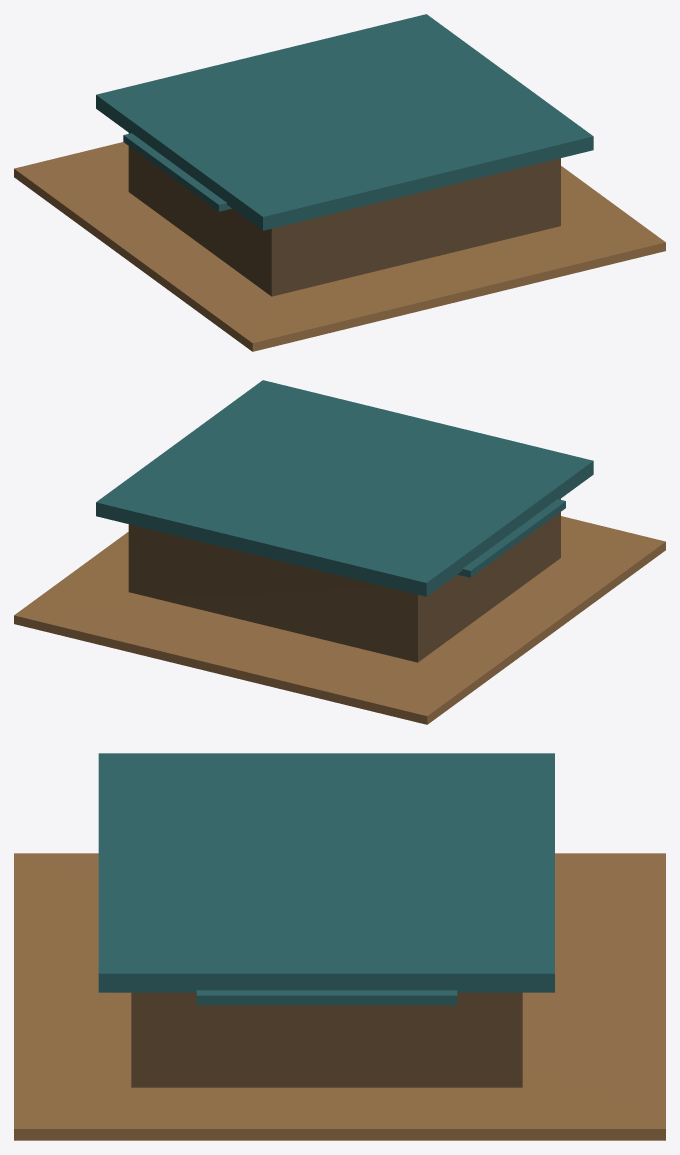
File: solar-array.source.glb
The picture shows the model from 3 angles, top to bottom: view 1: azimuth 30°, elevation 25°; view 2: azimuth 150°, elevation 25°; view 3: azimuth 270°, elevation 25°; orthographic projection. The views are drawn at different scales.
Parts seen in each view (by area): view 1: solar-array-roof-mesh, solar-array-base-mesh, solar-array-body-mesh, solar-array-panel-1.5-mesh; view 2: solar-array-roof-mesh, solar-array-base-mesh, solar-array-body-mesh, solar-array-panel-1.5-mesh; view 3: solar-array-roof-mesh, solar-array-base-mesh, solar-array-body-mesh, solar-array-panel1.5-mesh.
Part boxes in pixels (left/top/right/bottom): solar-array-roof-mesh: left=96, top=14, right=593, bottom=230; solar-array-base-mesh: left=14, top=142, right=665, bottom=351; solar-array-body-mesh: left=128, top=133, right=560, bottom=296; solar-array-panel-1.5-mesh: left=123, top=133, right=231, bottom=211; solar-array-roof-mesh: left=96, top=380, right=593, bottom=596; solar-array-base-mesh: left=14, top=516, right=665, bottom=724; solar-array-body-mesh: left=128, top=499, right=560, bottom=662; solar-array-panel-1.5-mesh: left=457, top=499, right=565, bottom=577; solar-array-roof-mesh: left=98, top=753, right=554, bottom=992; solar-array-base-mesh: left=14, top=853, right=665, bottom=1140; solar-array-body-mesh: left=131, top=992, right=522, bottom=1087; solar-array-panel1.5-mesh: left=196, top=990, right=457, bottom=1005.
Size of the model in its own units: 5 by 1.18 by 5.
